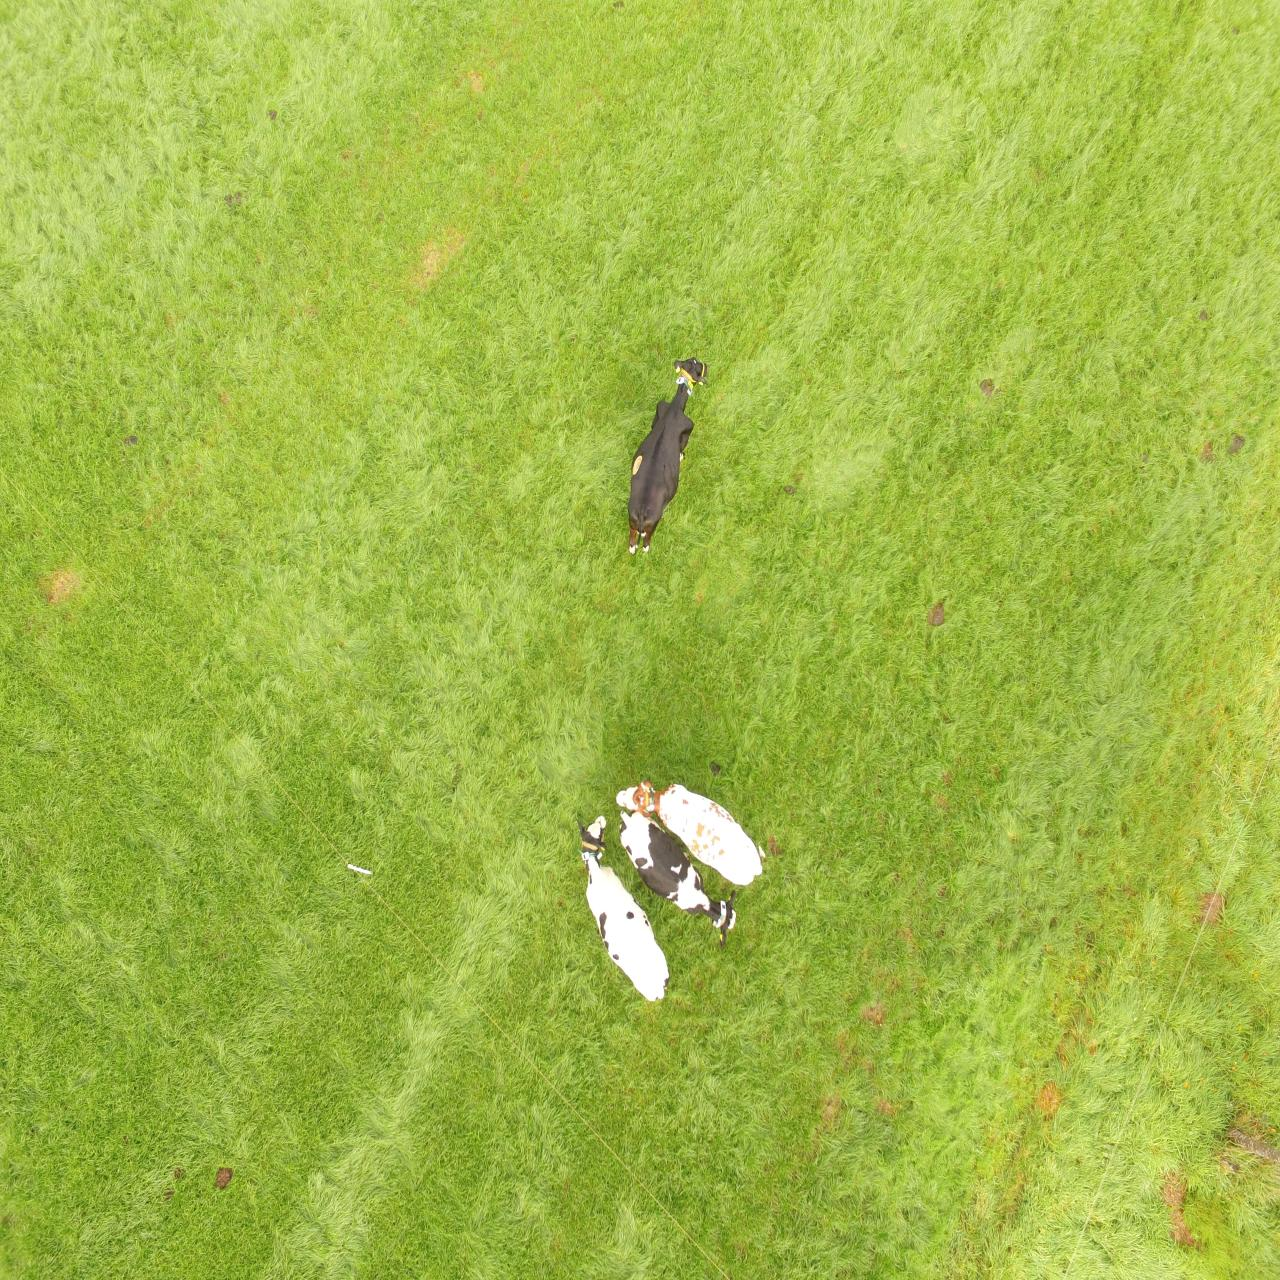cow: (578, 816, 679, 1002), (614, 776, 769, 890), (626, 354, 713, 554), (617, 816, 740, 940)
